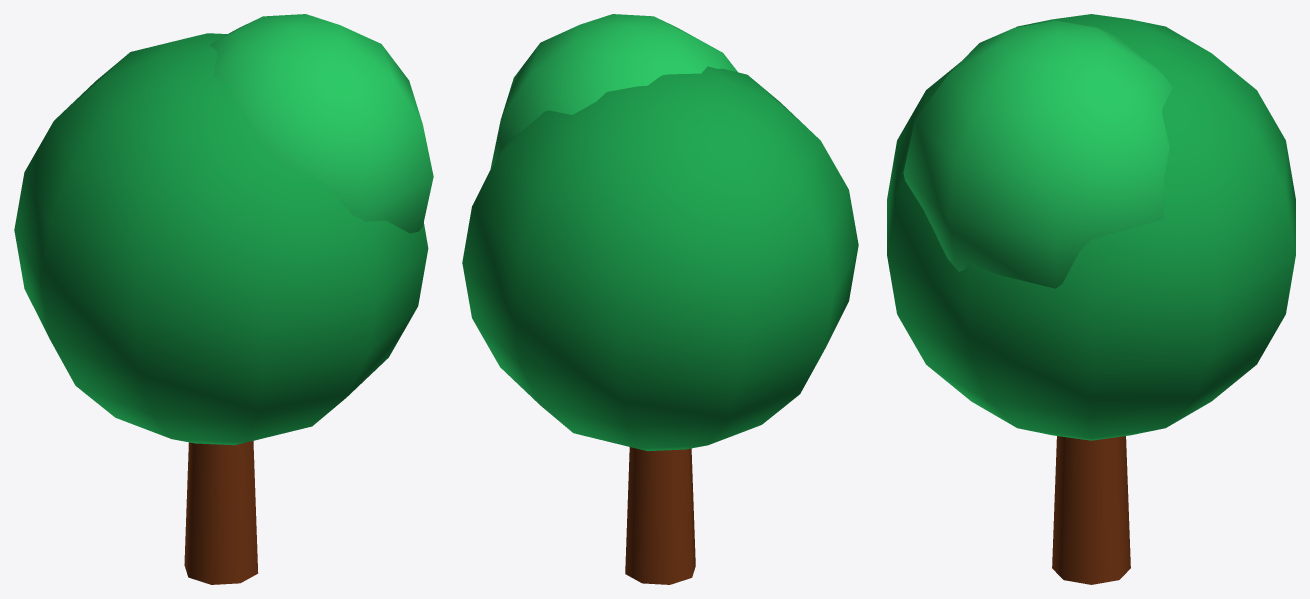
The model's file is tangerine_tree.glb.
3 views of the same model, side by side, from view 1: azimuth 30°, elevation 25°; view 2: azimuth 150°, elevation 25°; view 3: azimuth 270°, elevation 25° (orthographic). The views are drawn at different scales.
Parts seen in each view (by area): view 1: TangerineTree; view 2: TangerineTree; view 3: TangerineTree.
Boxes of the visible parts, x1,y1,x2,y2 form: TangerineTree: [14, 14, 433, 584]; TangerineTree: [462, 14, 858, 584]; TangerineTree: [887, 14, 1295, 584].
Bounding box in the file's own units: 2.4 × 3.45 × 2.28.
